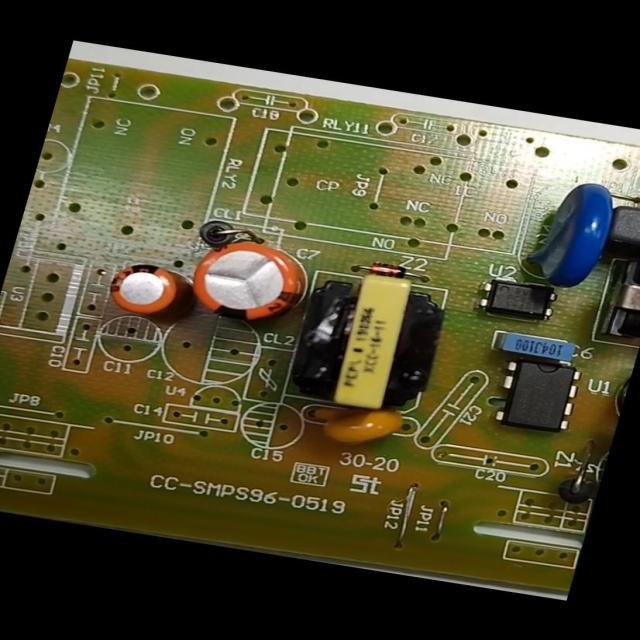Cap1: (179, 219, 328, 344)
Cap2: (91, 248, 206, 328)
MOSFET: (483, 344, 592, 443)
Mov: (514, 169, 639, 296)
Transformer: (277, 259, 453, 424), (590, 250, 639, 347)
